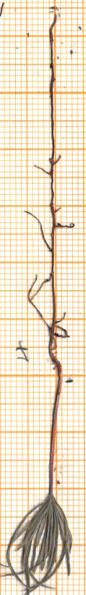flower: (0, 493, 86, 595)
root: (23, 0, 79, 379)
stem: (37, 377, 73, 493)
